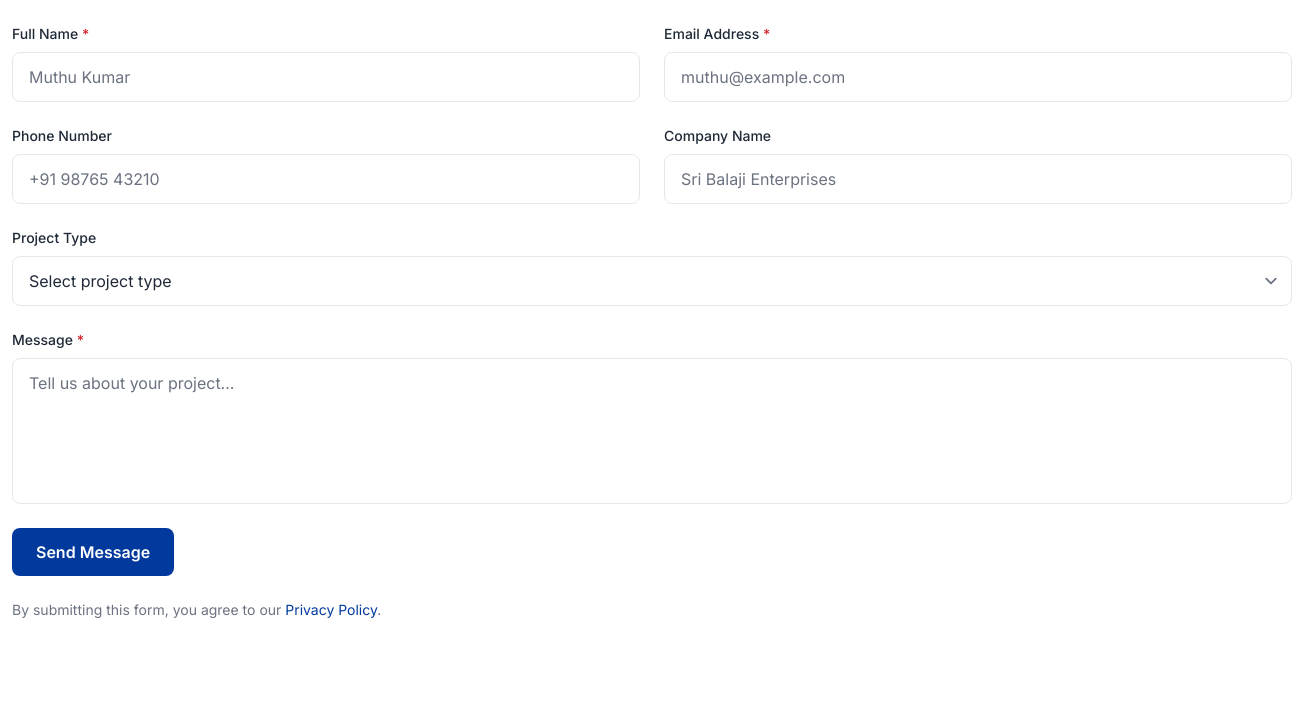
ContactForm › shows validation errors for empty required fields
Click the button "Send Message" at (93, 552), box [12,528,174,576]
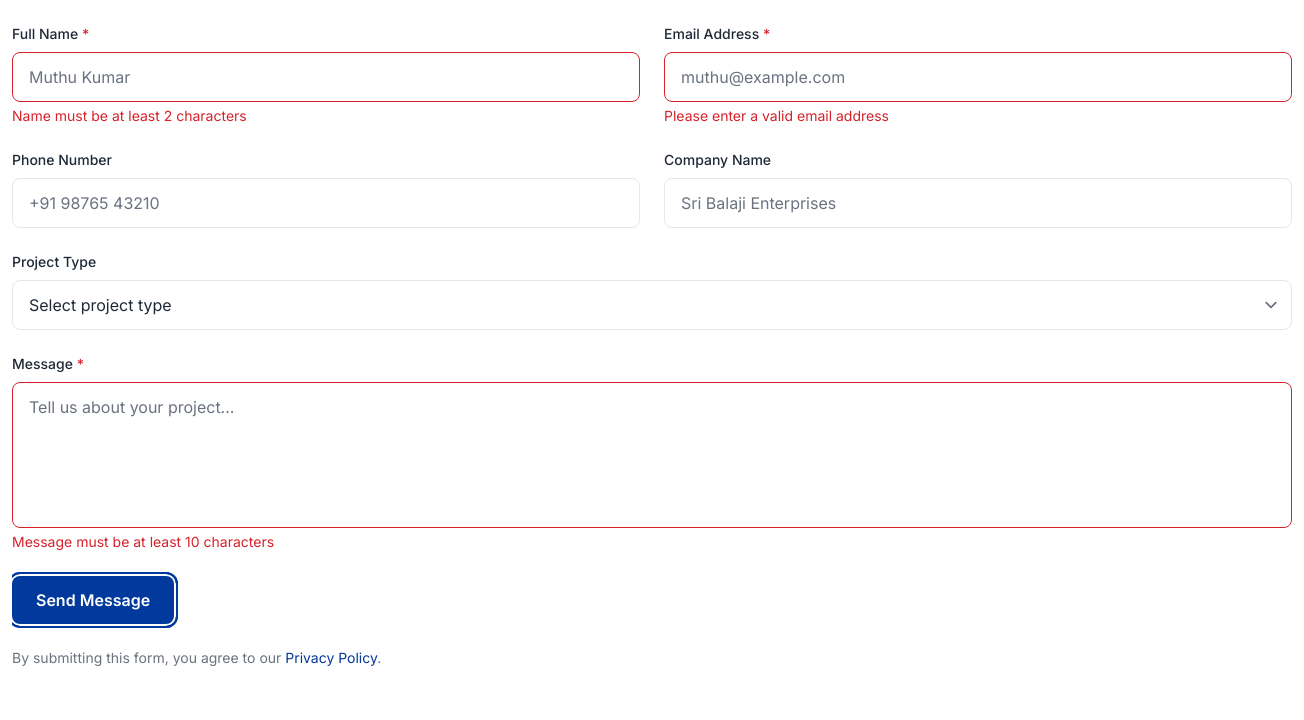
Expected: the text "Name must be at least 2 characters" is shown, [12,107,247,124]
Expected: the text "Please enter a valid email address" is shown, [664,107,889,124]
Expected: the text "Message must be at least 10 characters" is shown, [12,533,274,550]
